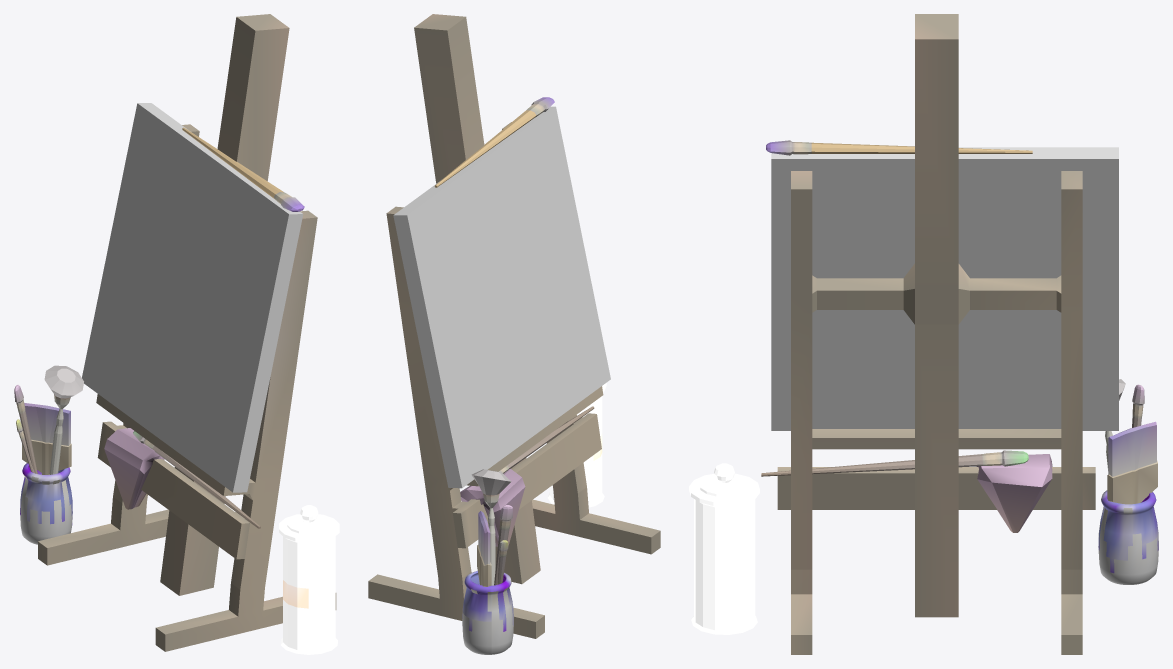
Rendered from Art Easel Set Up.glb.
The picture shows the model from 3 angles, left to right: view 1: azimuth 30°, elevation 25°; view 2: azimuth 150°, elevation 25°; view 3: azimuth 270°, elevation 25°; orthographic projection. The views are drawn at different scales.
Visible parts, largest first — view 1: Cube.001; view 2: Cube.001; view 3: Cube.001.
Part boxes in pixels (bbox=[...]): Cube.001: bbox=[14, 14, 339, 654]; Cube.001: bbox=[368, 14, 660, 654]; Cube.001: bbox=[689, 14, 1158, 654].
Bounding box in the file's own units: 4.27 × 12.52 × 8.5.
